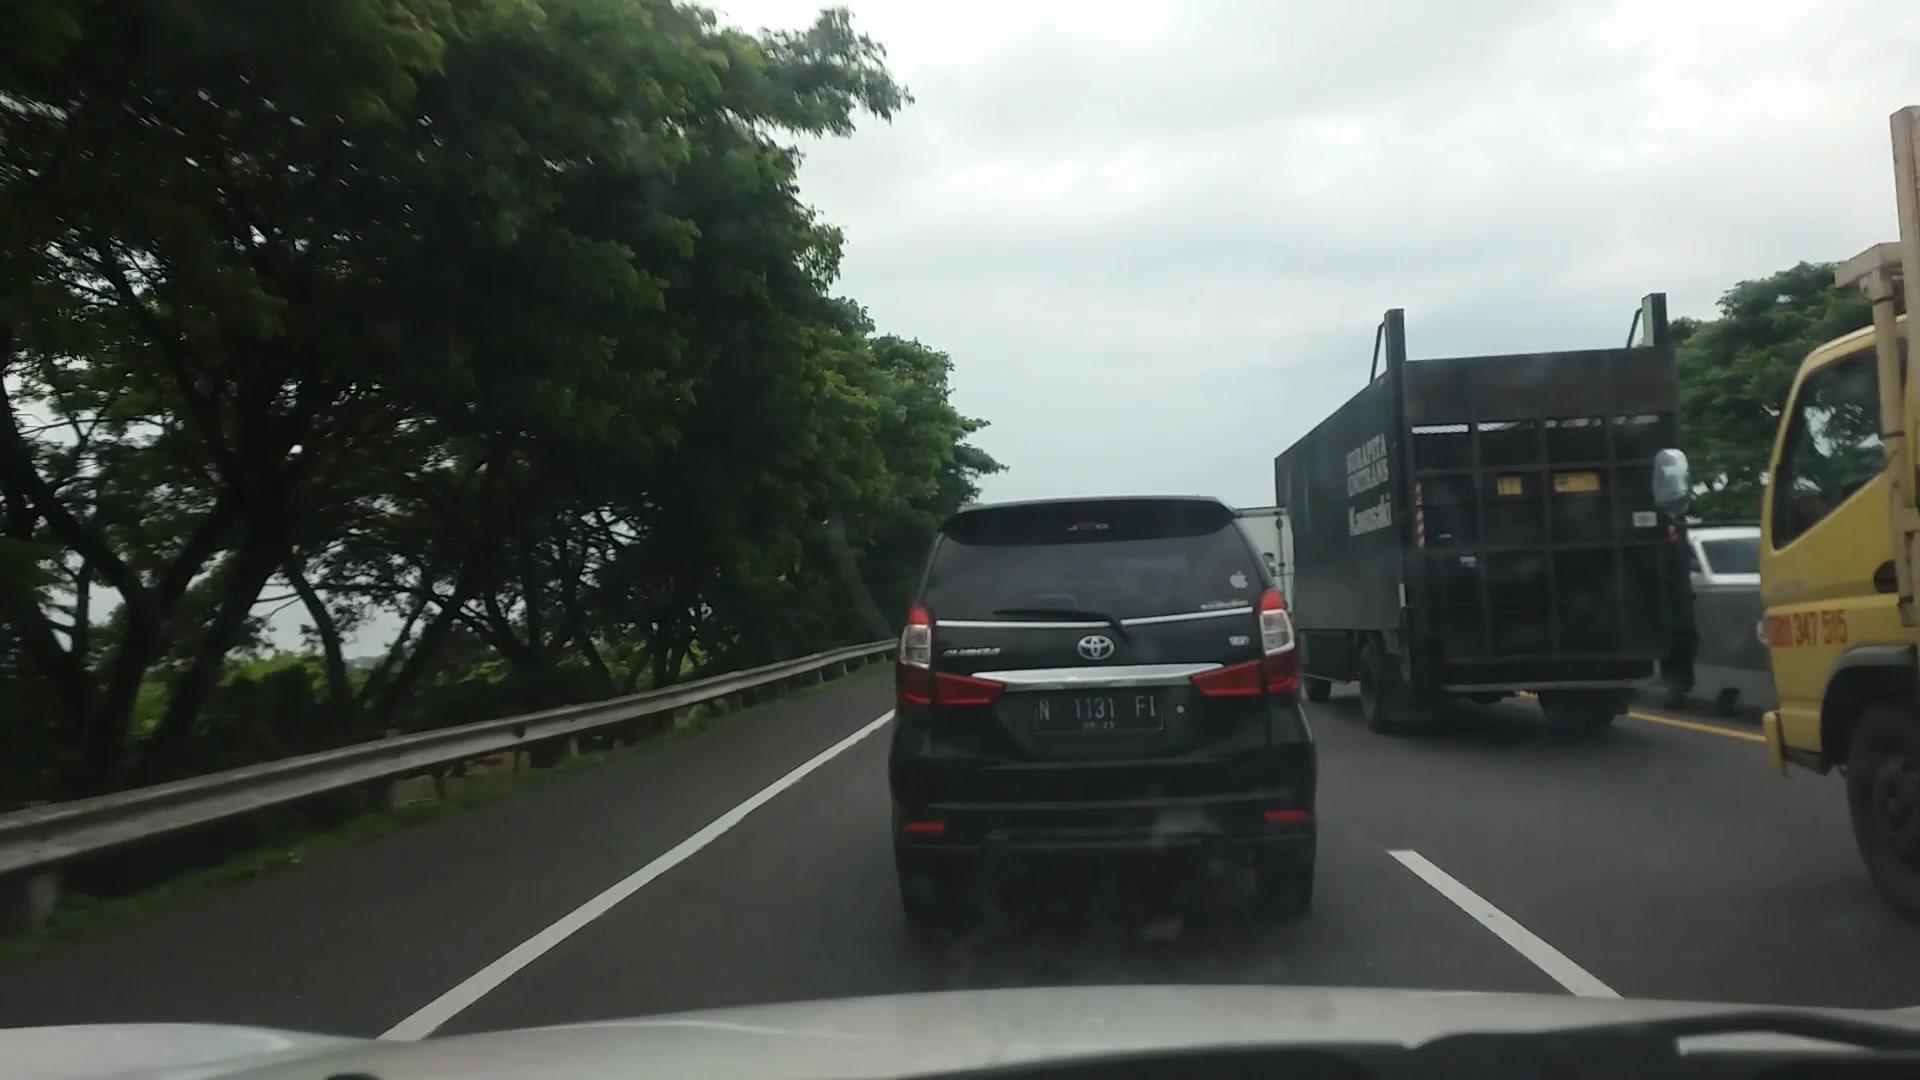plate_positive: (1036, 690, 1163, 731)
